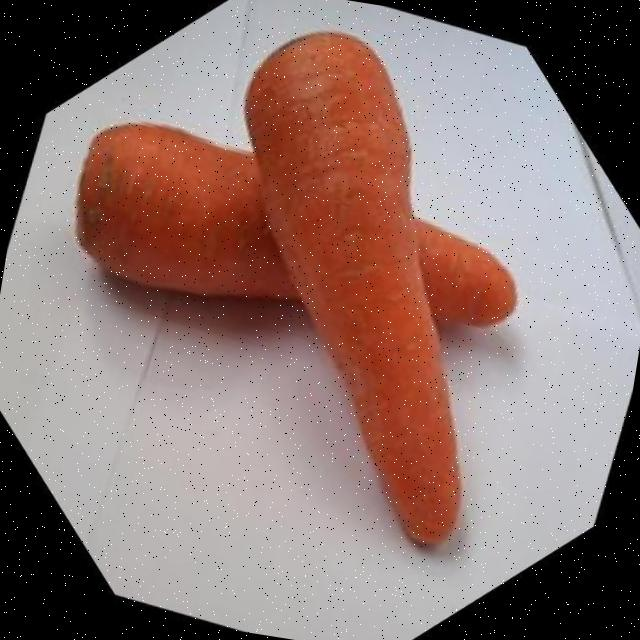carrot: (247, 33, 461, 544), (77, 124, 519, 333)
